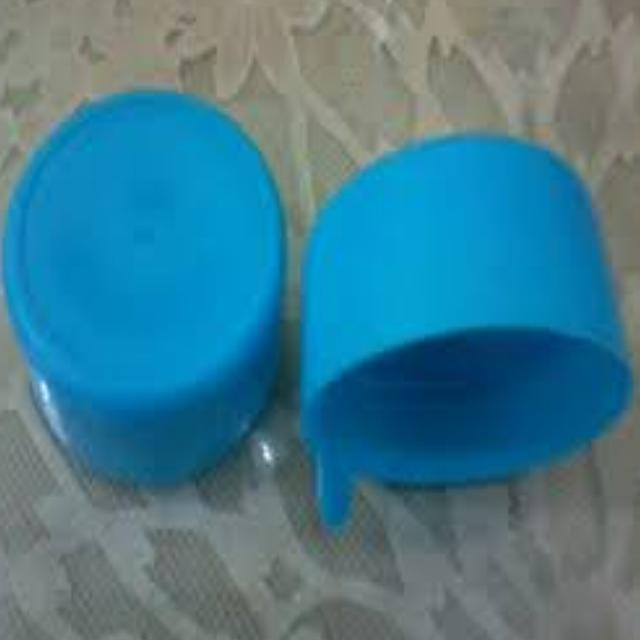TutupGalon: (297, 128, 634, 530), (4, 81, 292, 521)
